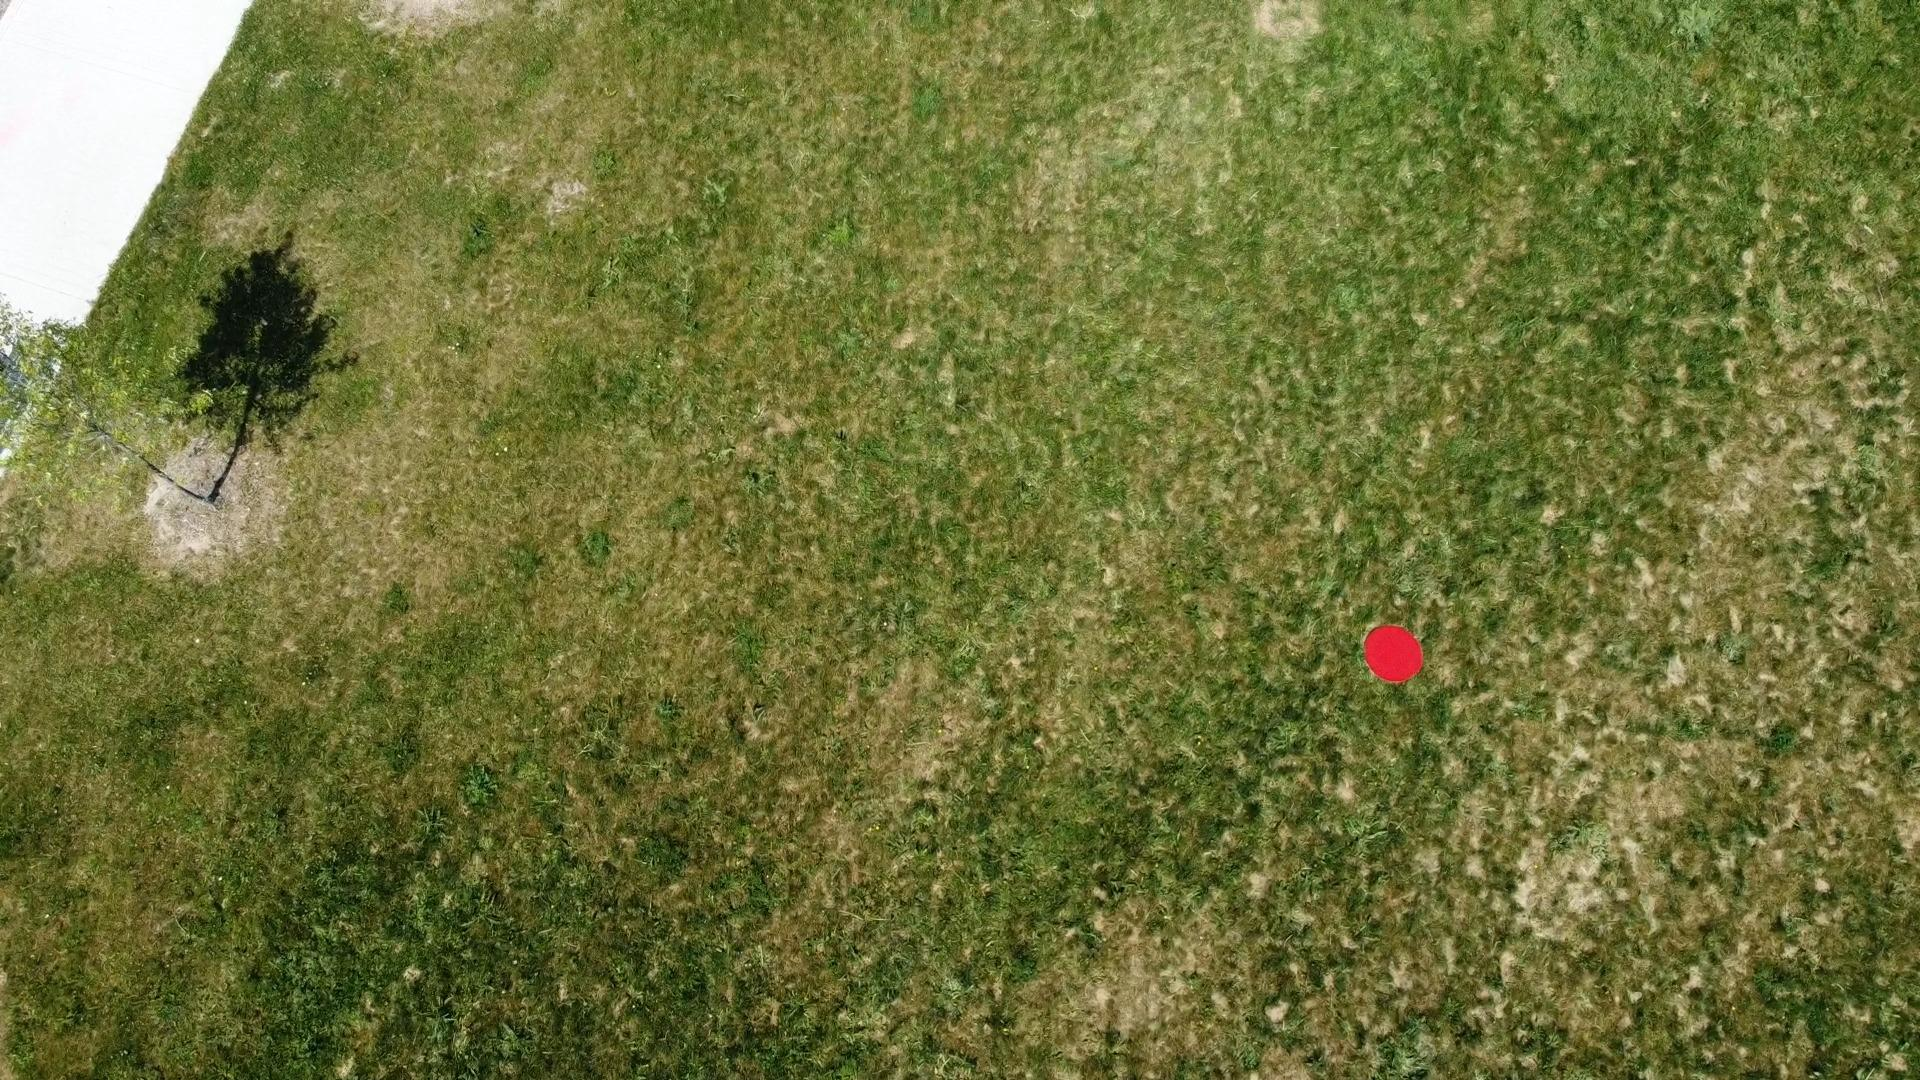Red: (1360, 622, 1425, 683)
